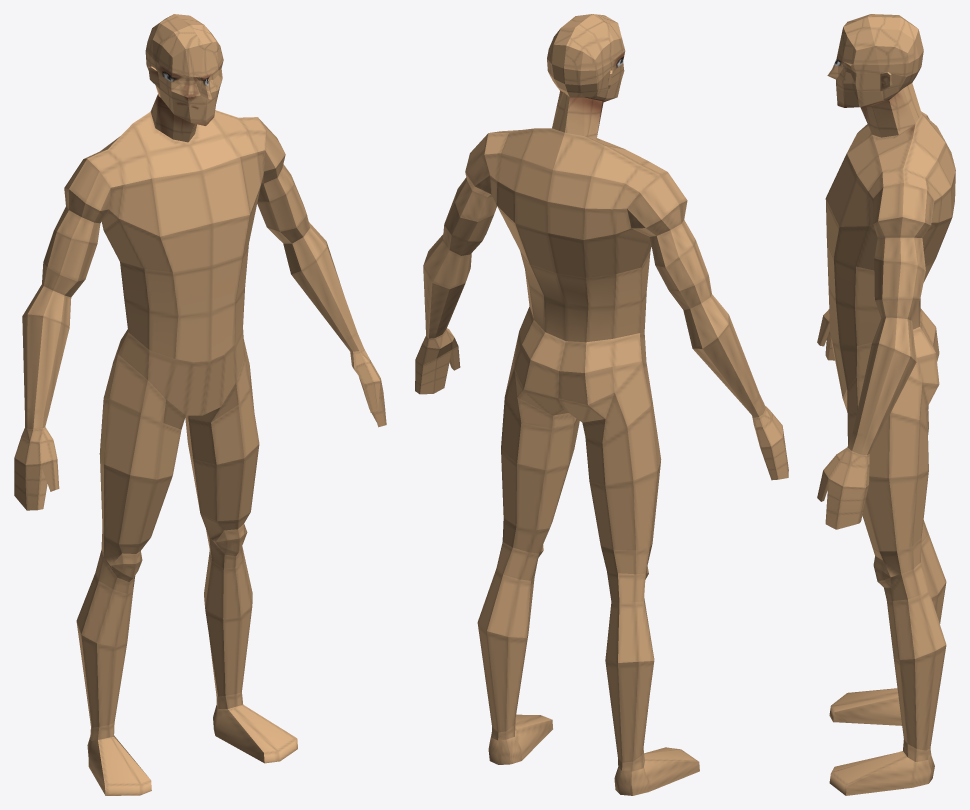
Rendered from human.fbx.
The picture shows the model from 3 angles, left to right: view 1: azimuth 30°, elevation 25°; view 2: azimuth 150°, elevation 25°; view 3: azimuth 270°, elevation 25°; orthographic projection.
Parts seen in each view (by area): view 1: polySurface11; view 2: polySurface11; view 3: polySurface11.
Part boxes in pixels (<box>): polySurface11: <box>14,14,386,795</box>; polySurface11: <box>415,14,788,795</box>; polySurface11: <box>817,14,955,795</box>.
Size of the model in its own units: 0.9578 by 1.87 by 0.3209.
Materials: 1 (1 with a texture image).
